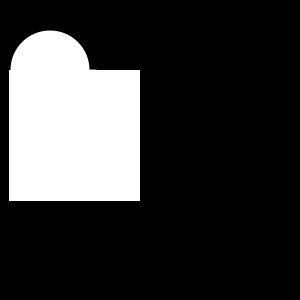circle: (9, 70, 140, 201)
rectangle: (11, 31, 90, 110), (52, 70, 132, 148)
